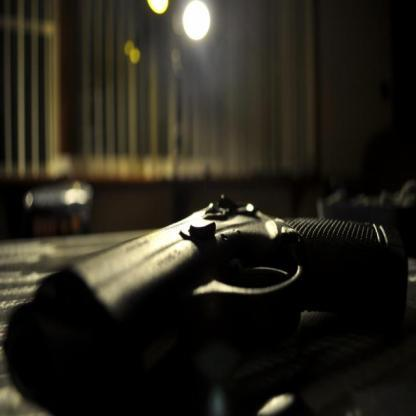weapon: (35, 193, 407, 334)
